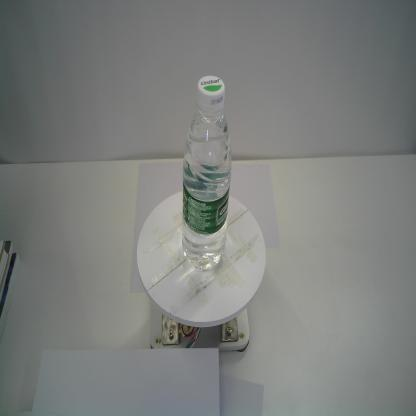Drink: (182, 73, 233, 271)
